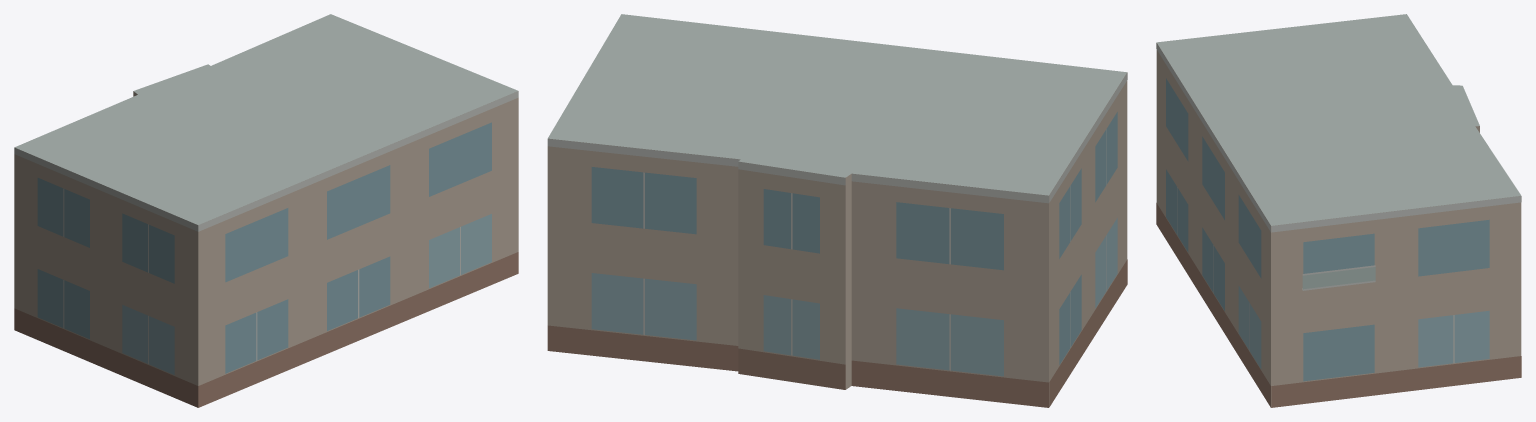
The model's file is survey-upis-32954873.glb.
3 renders of one model, left to right at view 1: azimuth 30°, elevation 25°; view 2: azimuth 150°, elevation 25°; view 3: azimuth 270°, elevation 25°, orthographic. The views are drawn at different scales.
Visible parts, largest first — view 1: survey-upis-32954873.tmp; view 2: survey-upis-32954873.tmp; view 3: survey-upis-32954873.tmp.
Boxes of the visible parts, x1,y1,x2,y2 form: survey-upis-32954873.tmp: [14, 14, 518, 407]; survey-upis-32954873.tmp: [547, 14, 1127, 407]; survey-upis-32954873.tmp: [1156, 14, 1521, 407].
Bounding box in the file's own units: 16.75 × 6.7 × 12.19.
